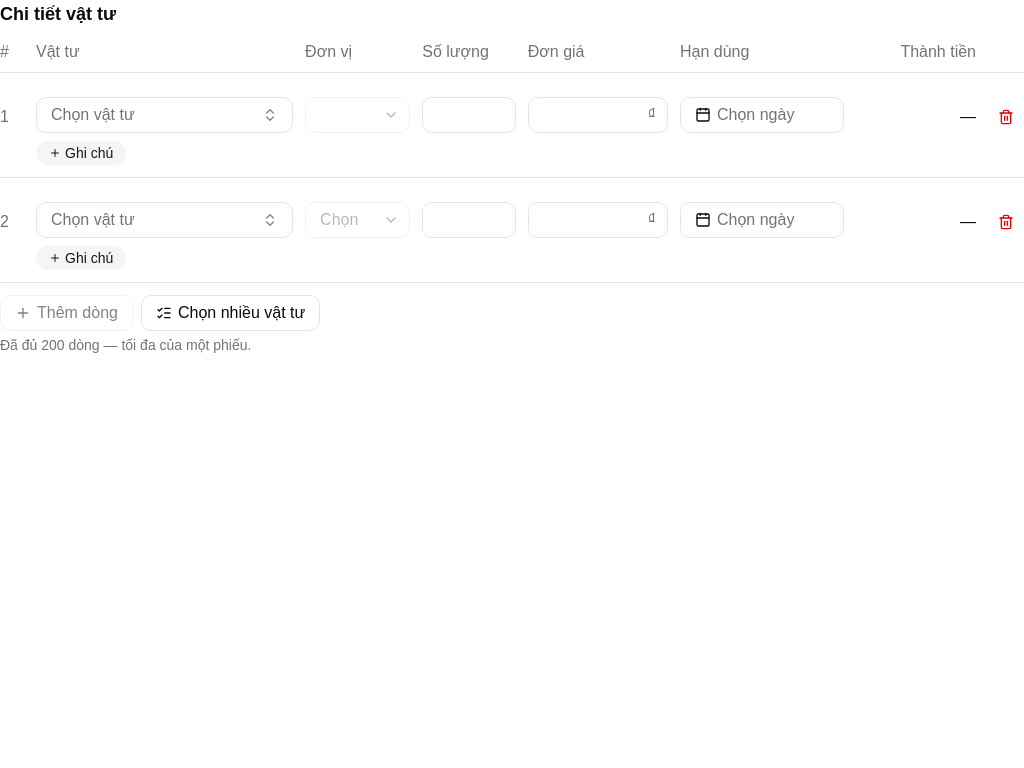
Test: ImportFormItemsField — hết chỗ khi hộp "Chọn vật tư" đang mở › 2 dòng (1 có vật tư, 1 trống hẳn) → "Thêm dòng" khoá, hộp báo còn chọn được 1; tick 1 thì ô kia khoá; chọn lấp đúng dòng trống
This screenshot has width=1024, height=768.
Expected: the button "Thêm dòng" is disabled, top-left (0, 295), bottom-right (133, 331)
Click the button "Chọn nhiều vật tư" at {"x": 230, "y": 313}, box top-left (141, 295), bottom-right (320, 331)
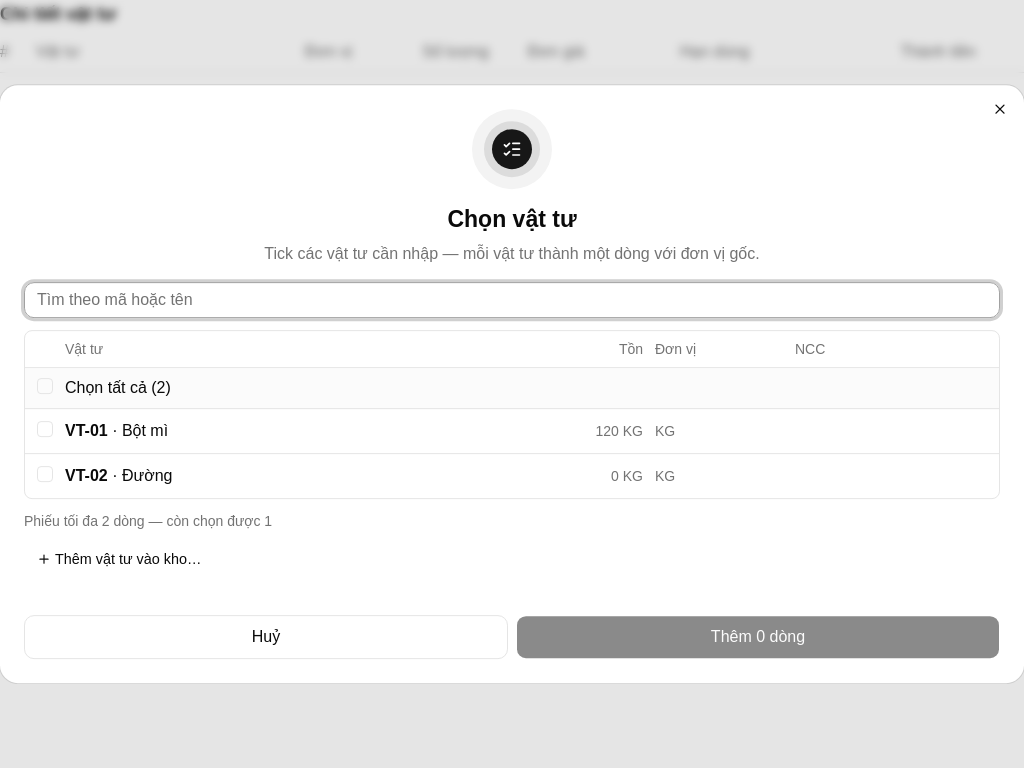
Expected: the dialog "Chọn vật tư" shows "Phiếu tối đa 2 dòng — còn chọn được 1", top-left (24, 513), bottom-right (272, 529)
Click the checkbox named "VT-01 · Bột mì" next to "VT-01" at {"x": 45, "y": 429}, box top-left (37, 421), bottom-right (53, 437)
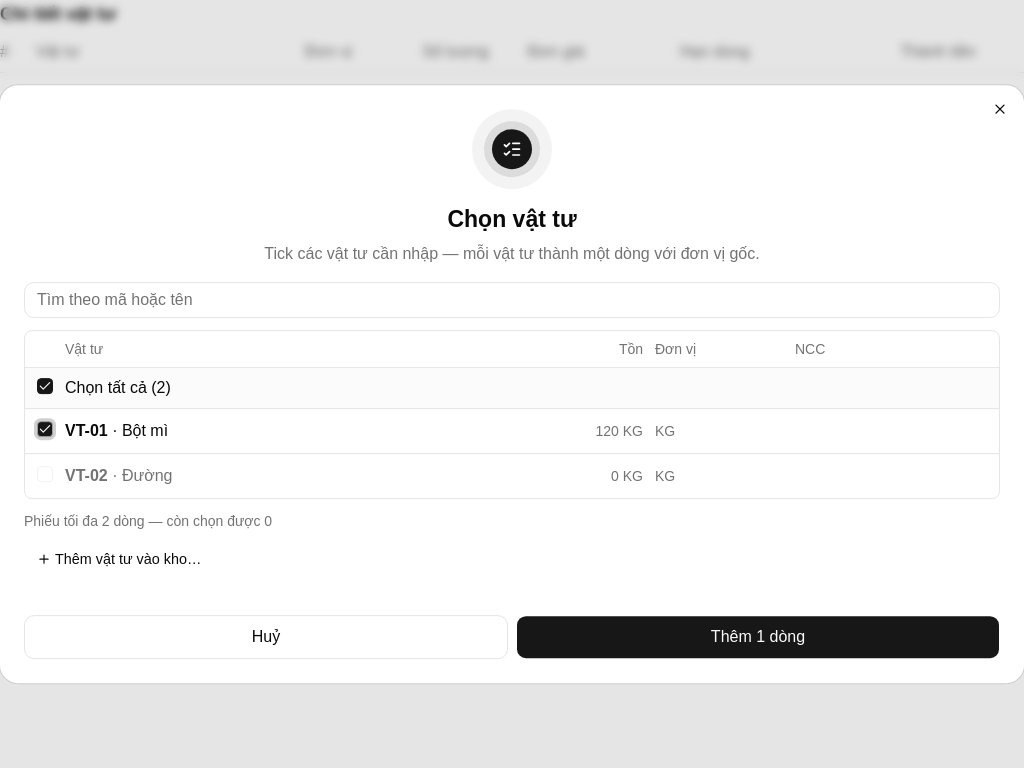
Click the button "Thêm 1 dòng" at {"x": 758, "y": 637}, box top-left (516, 615), bottom-right (1000, 659)
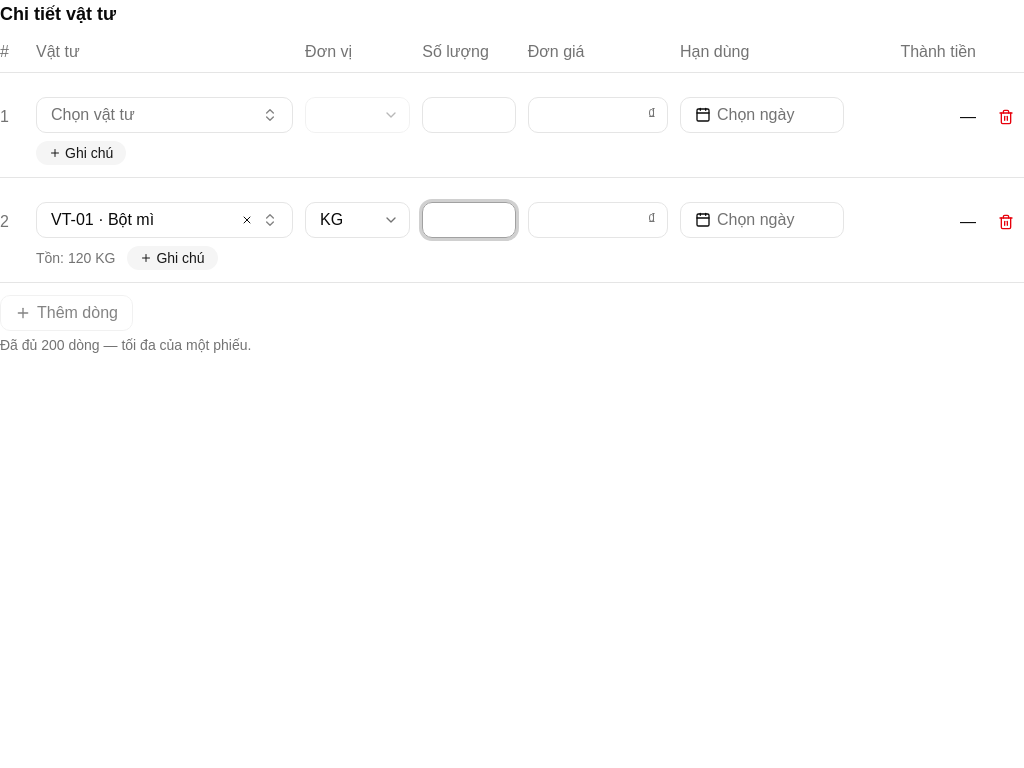
Expected: the dialog is gone
